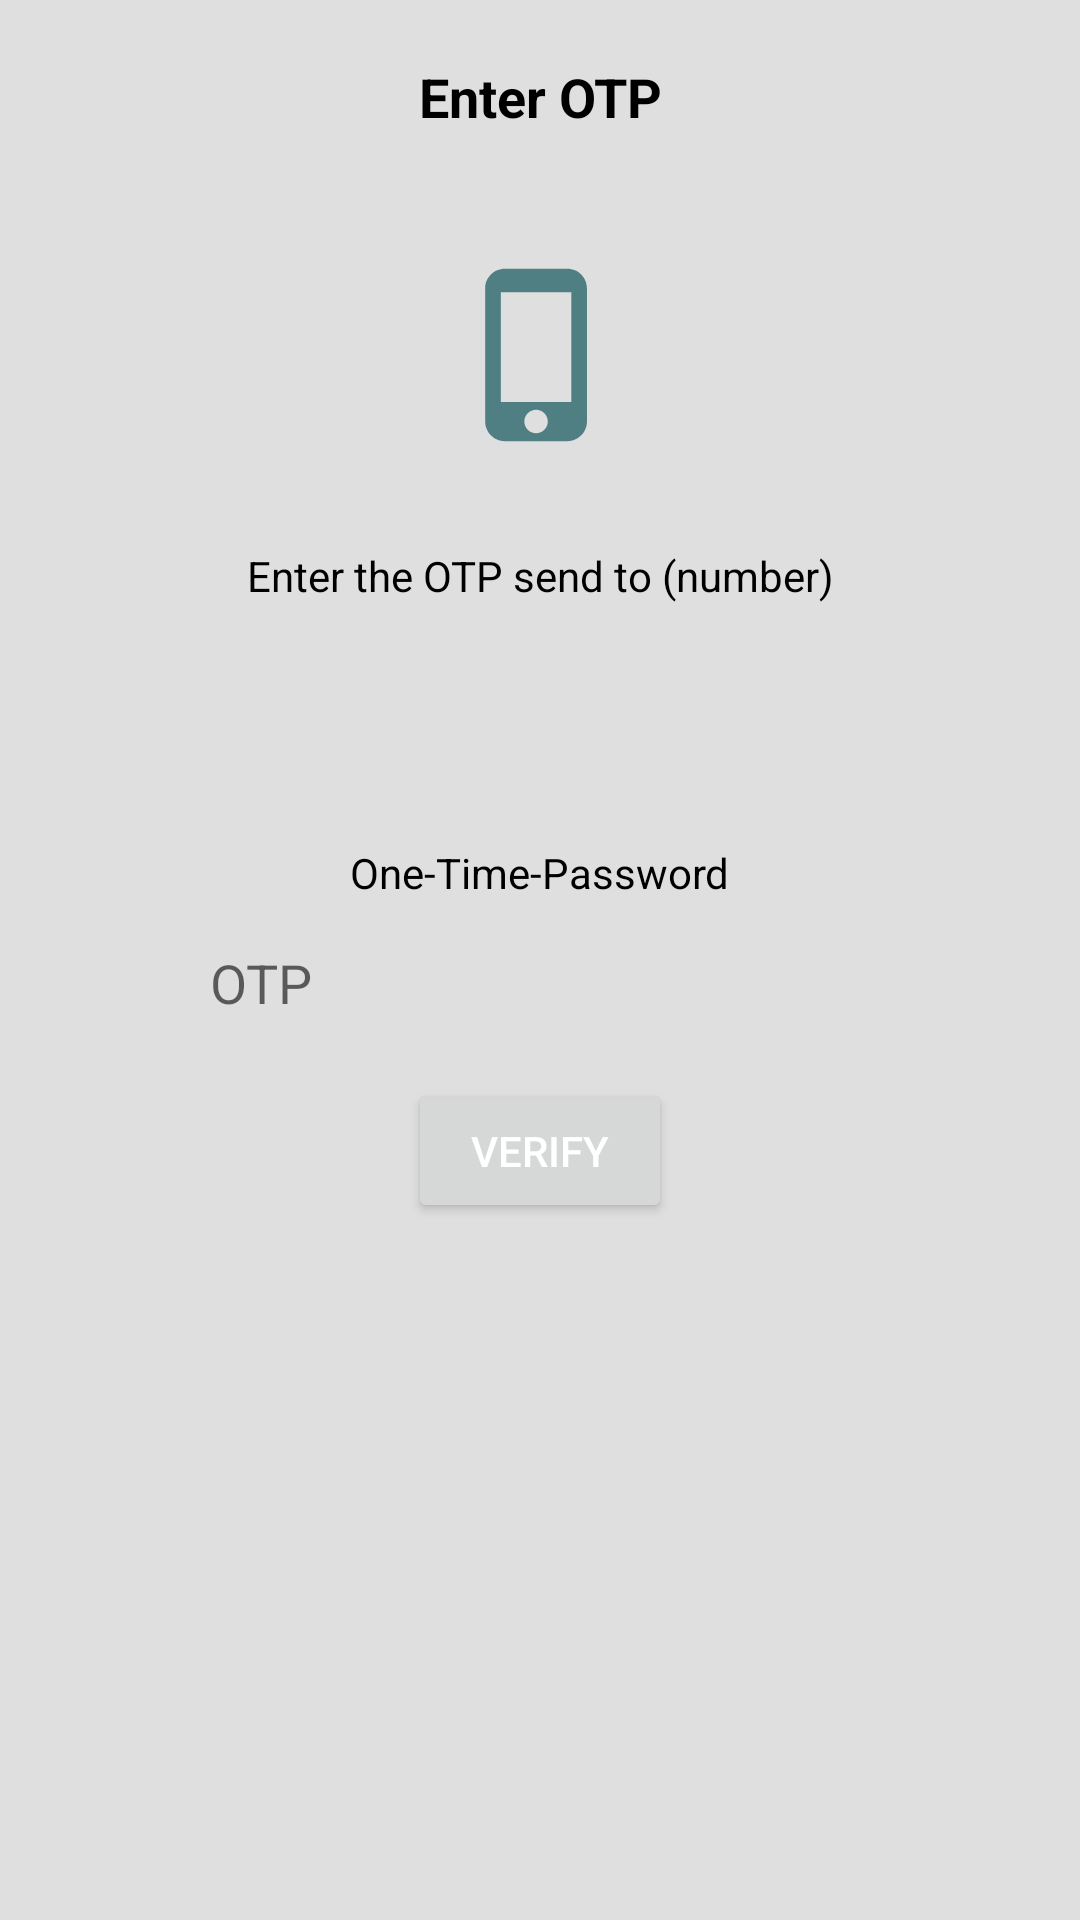

Screen size 1080px x 1920px. Icon name, then its box in pixels as (x1, y1, x2, y2):
phone: (485, 268, 587, 442)
